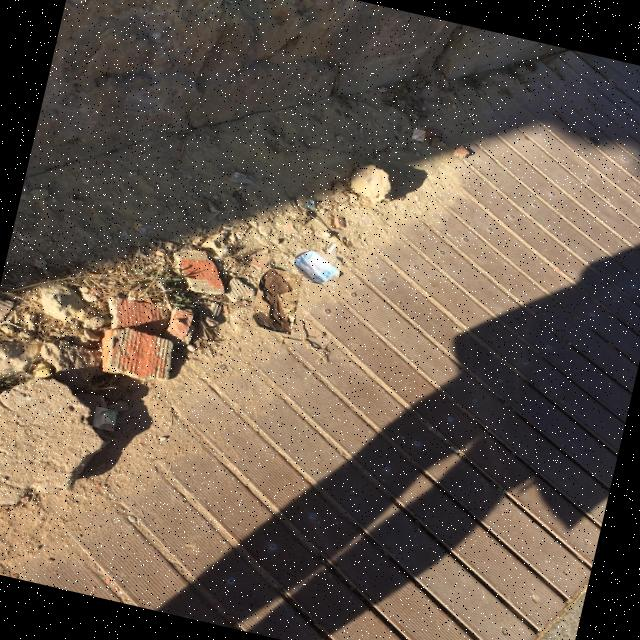Cigarette: (412, 130, 425, 140), (327, 243, 337, 253), (360, 217, 370, 227)
Other plastic: (294, 252, 338, 284)
Tissues: (255, 269, 294, 332)
Unlabeled litter: (94, 410, 116, 428)
